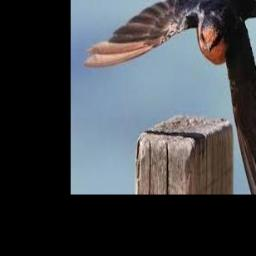Swallow: (84, 0, 256, 195)
